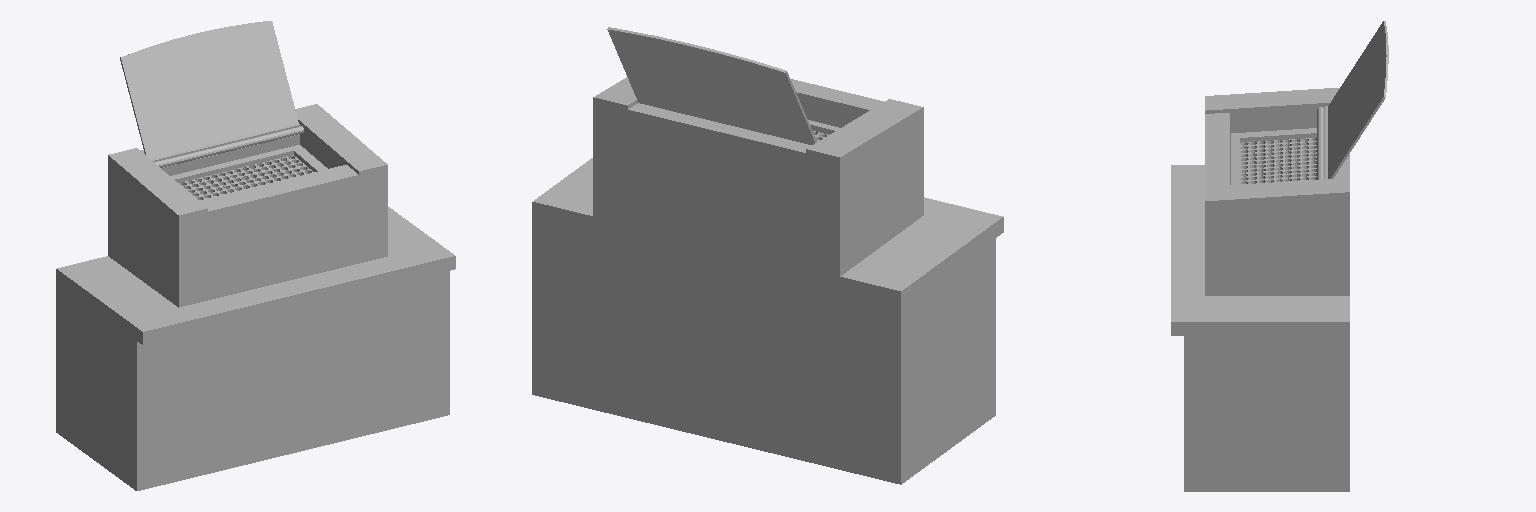
URDF robot description (table_lazercutter):
<?xml version="1.0" encoding="utf-8"?>
<!-- This URDF was automatically created by SolidWorks to URDF Exporter! Originally created by [author] ([email redacted]) 
     Commit Version: 1.6.0-1-g15f4949  Build Version: 1.6.7594.29634
     For more information, please see http://wiki.ros.org/sw_urdf_exporter -->
<robot
  name="table_lazercutter">
  <link
    name="base_link">
    <inertial>
      <origin
        xyz="0 0 0"
        rpy="0 0 0" />
        <!-- "5.04E-06 0.0074878 0.47267" -->
      <mass
        value="858.33" />
      <inertia
        ixx="64.063"
        ixy="0"
        ixz="0"
        iyy="172.61"
        iyz="0"
        izz="169.26" />
    </inertial>
    <visual>
      <origin
        xyz="0 0 0"
        rpy="0 0 0" />
      <geometry>
        <mesh
          filename="package://table_lazercutter/meshes/base_link.STL" />
      </geometry>
      <material
        name="">
        <color
          rgba="0.75294 0.75294 0.75294 1" />
      </material>
    </visual>
    <collision>
      <origin
        xyz="0 0 0"
        rpy="0 0 0" />
      <geometry>
        <mesh
          filename="package://table_lazercutter/meshes/base_link.STL" />
      </geometry>
    </collision>
  </link>
</robot>

--- Render facts (derived) ---
Views: 3 orthographic renders of the robot side by side, from view 1: azimuth 30°, elevation 25°; view 2: azimuth 150°, elevation 25°; view 3: azimuth 270°, elevation 25°.
Model table_lazercutter with 1 links and 0 joints (none), rooted at base_link, posed all joints at 0.
Visible links, largest first — view 1: base_link; view 2: base_link; view 3: base_link.
Boxes of the visible links, x1=… form: base_link: x1=56, y1=21, x2=455, y2=490; base_link: x1=532, y1=27, x2=1003, y2=484; base_link: x1=1171, y1=21, x2=1388, y2=491.
Size in the robot's own frame: 1.46 by 0.8508 by 1.55 metres.
1 mesh visuals loaded from 1 distinct referenced files (1 binary STL).